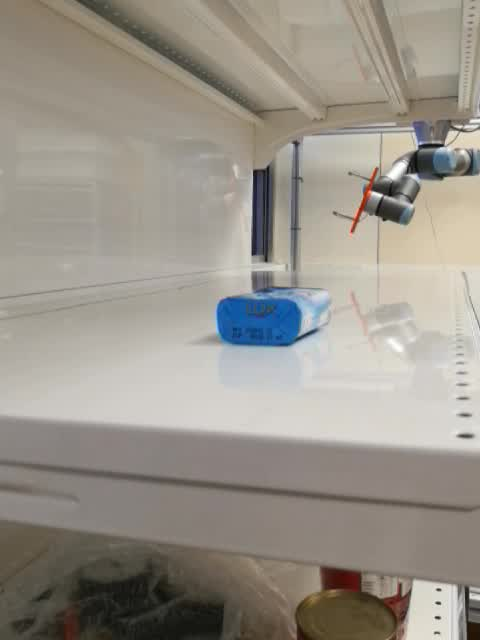soap: (216, 285, 332, 348)
